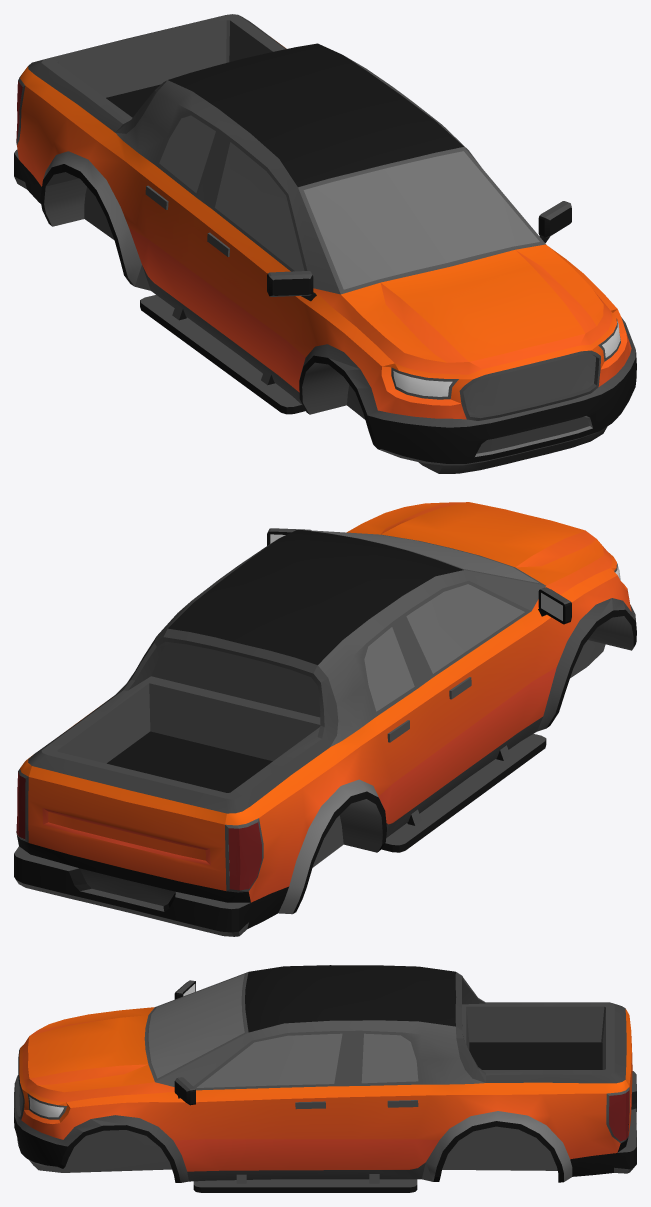
File: Car_5.fbx
The picture shows the model from 3 angles, top to bottom: view 1: azimuth 30°, elevation 25°; view 2: azimuth 150°, elevation 25°; view 3: azimuth 270°, elevation 25°; orthographic projection. The views are drawn at different scales.
Visible parts, largest first — view 1: Car_5; view 2: Car_5; view 3: Car_5.
Part boxes in pixels (x1,y1,x2,y2): Car_5: [14, 14, 636, 473]; Car_5: [14, 502, 636, 936]; Car_5: [14, 965, 636, 1192].
Size of the model in its own units: 182 by 118 by 433.
